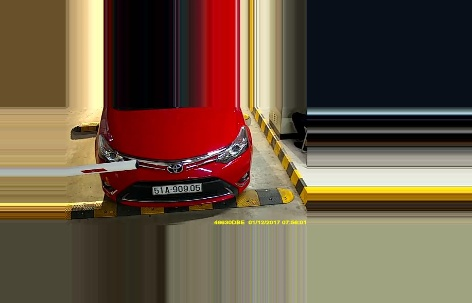plate: (150, 180, 206, 195)
